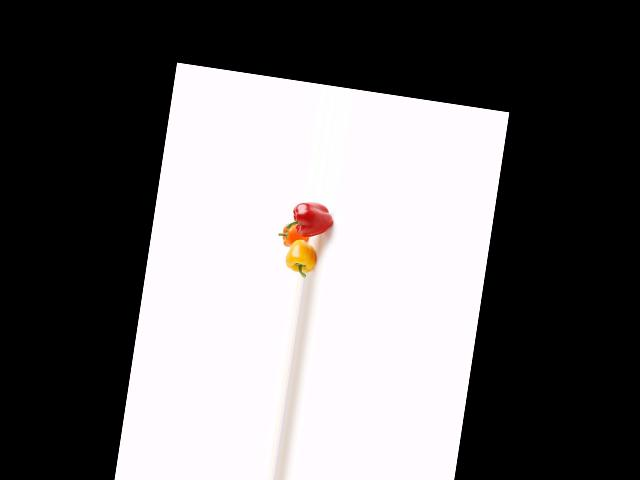bell_pepper: (280, 197, 339, 242)
